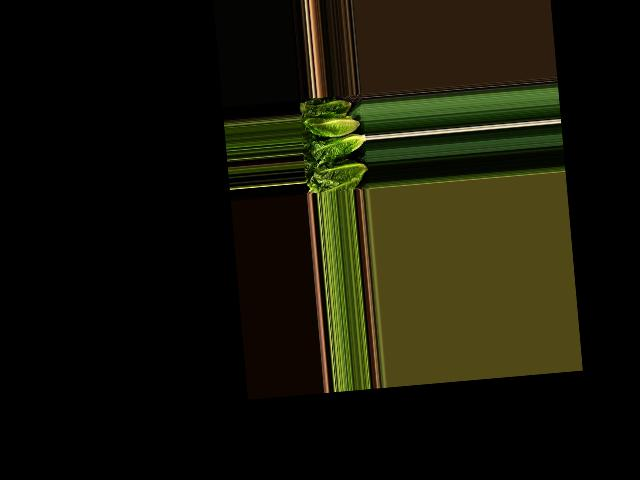lettuce: (299, 99, 350, 118)
